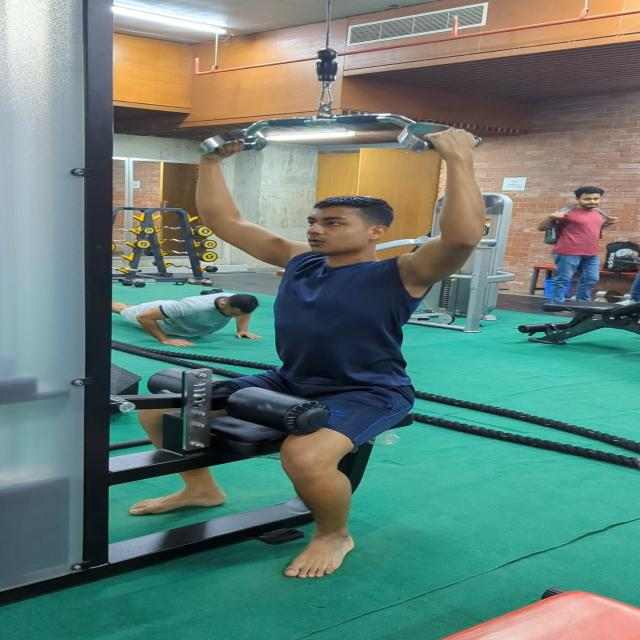Normal_LatPulldown: (118, 120, 500, 593)
